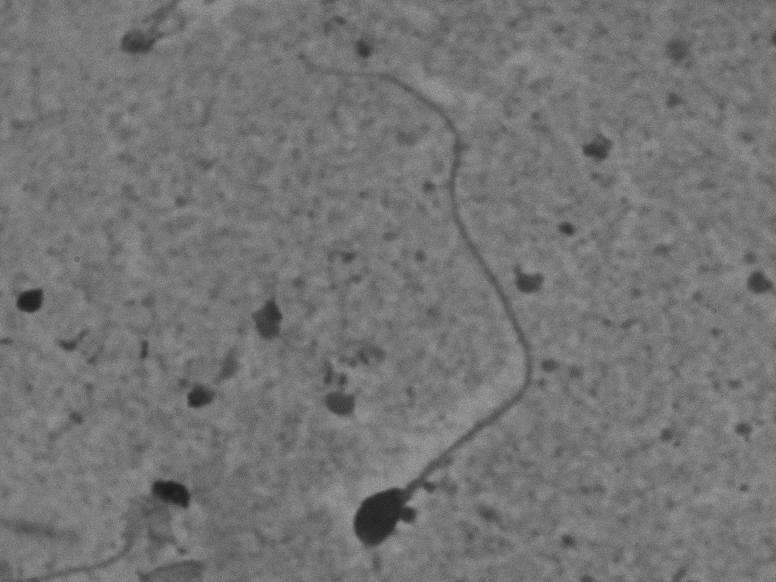Abnormal: (235, 47, 607, 557)
